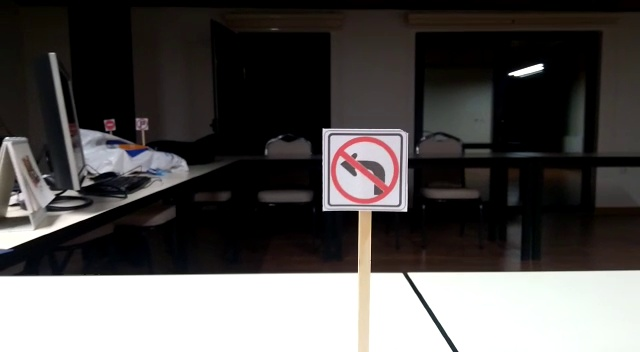sola_donulmez: (326, 135, 405, 207)
